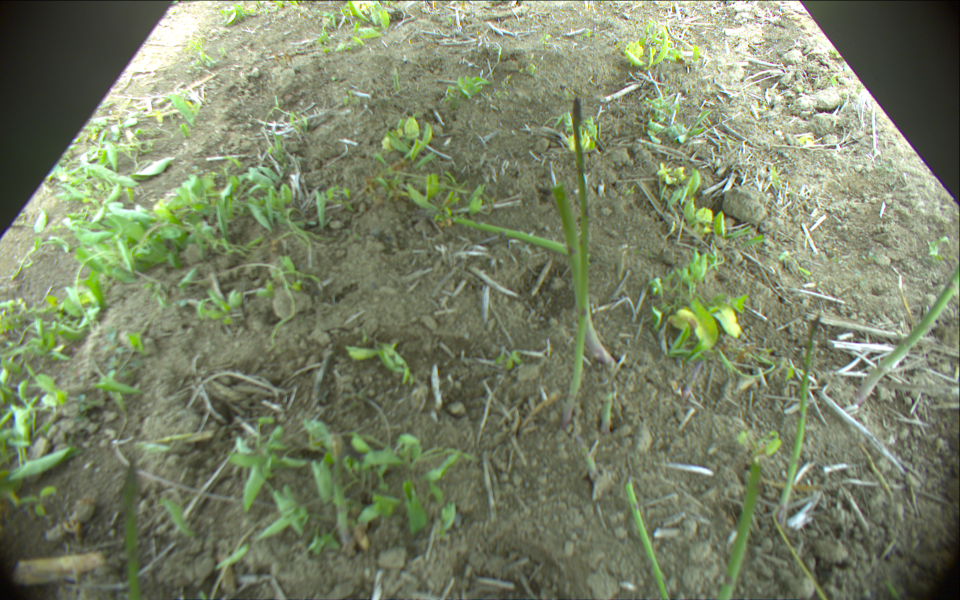aspa: (850, 258, 960, 407), (555, 182, 614, 368), (558, 96, 591, 426), (772, 312, 821, 528), (420, 209, 571, 255), (720, 458, 763, 600), (625, 479, 670, 600), (123, 461, 143, 600), (601, 390, 616, 436)
